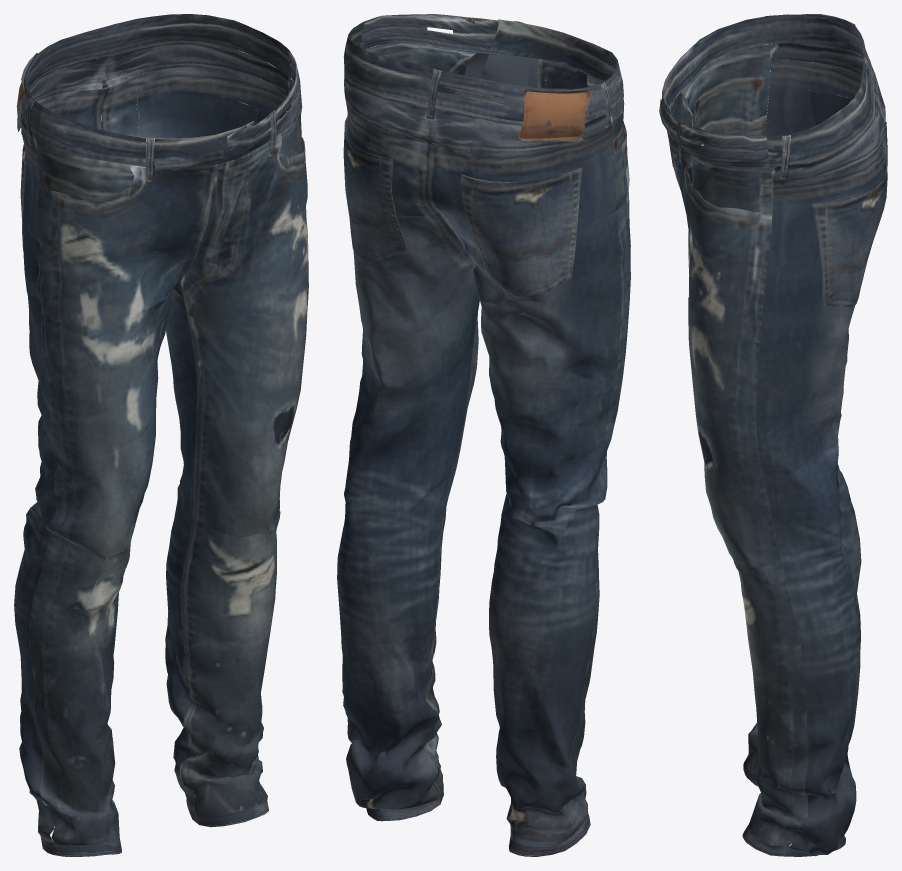
The model's file is 1Ripped.fbx.
The picture shows the model from 3 angles, left to right: view 1: azimuth 30°, elevation 25°; view 2: azimuth 150°, elevation 25°; view 3: azimuth 270°, elevation 25°; orthographic projection. The views are drawn at different scales.
Visible parts, largest first — view 1: Mesh; view 2: Mesh; view 3: Mesh.
Part boxes in pixels (x1=…): Mesh: x1=14, y1=14, x2=308, y2=856; Mesh: x1=337, y1=14, x2=630, y2=856; Mesh: x1=659, y1=14, x2=887, y2=856.
Bounding box in the file's own units: 87.28 × 249 × 68.35.
